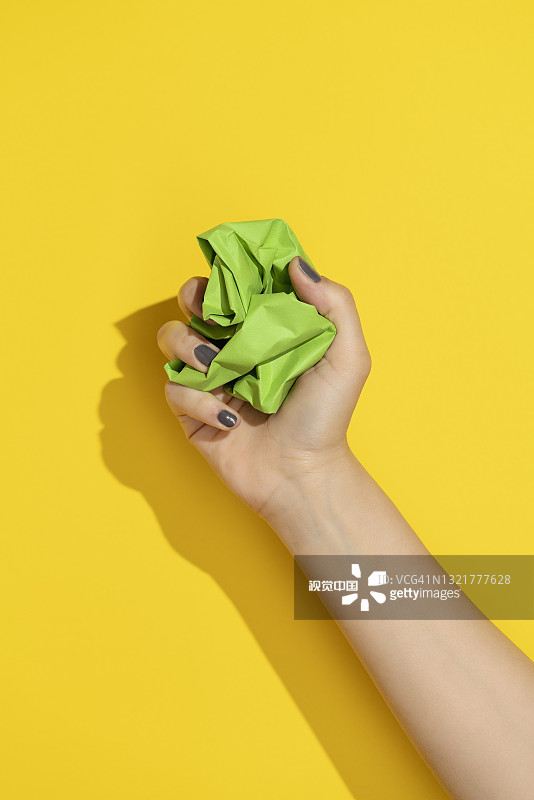no-phone: (140, 206, 407, 530)
